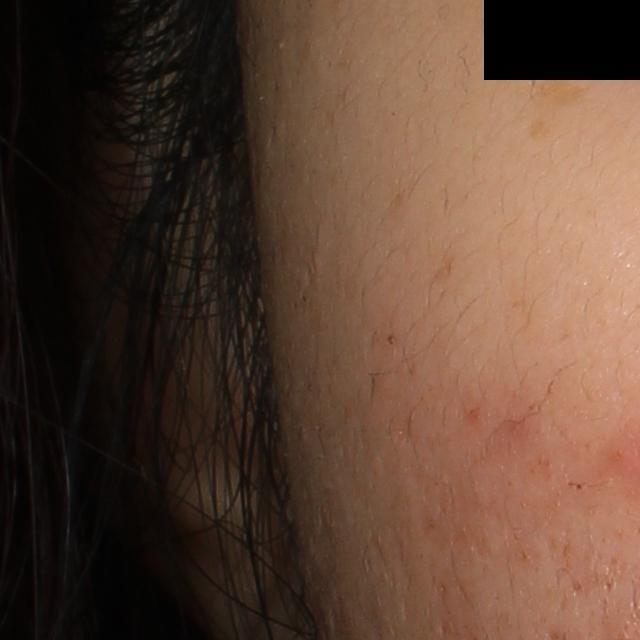melasma: (530, 59, 593, 140)
